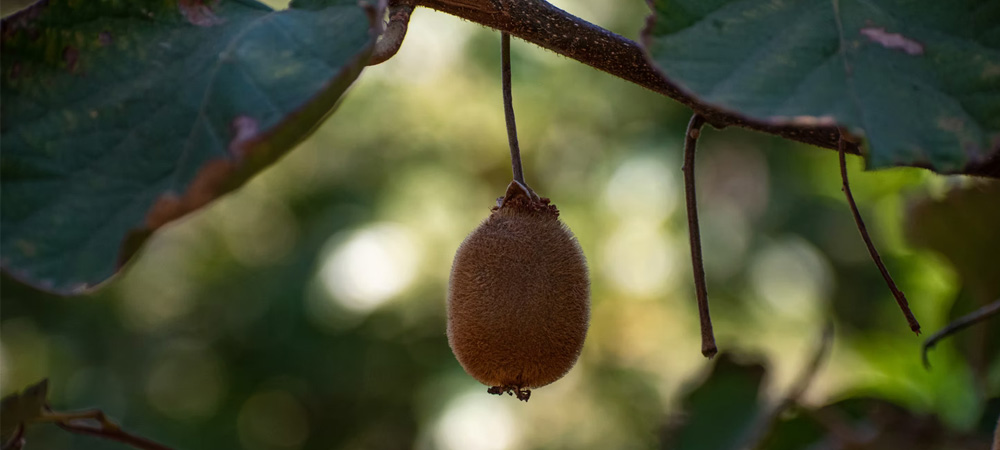kiwi: (424, 157, 662, 416)
